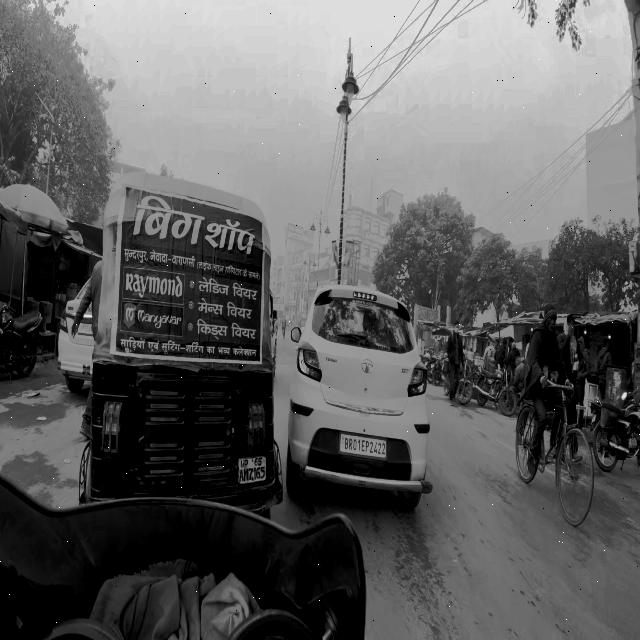Auto-Rickshaw: (91, 162, 285, 523)
Car: (289, 267, 438, 527)
